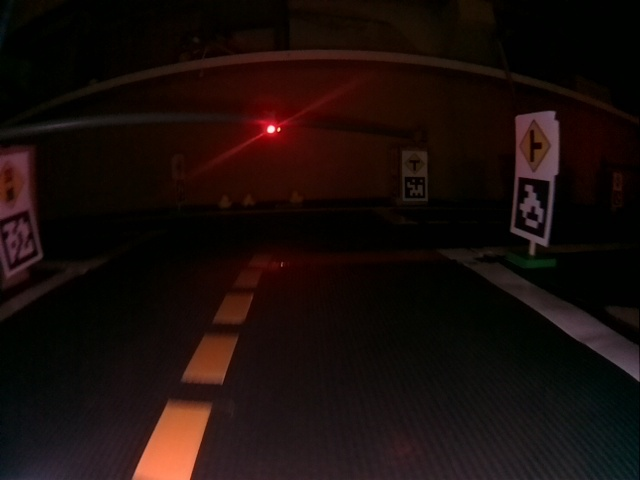Duckie: (218, 196, 231, 208), (243, 195, 254, 206), (293, 191, 303, 201)
Intersection sign: (519, 118, 552, 173), (404, 153, 425, 174)
QR code: (514, 177, 552, 239), (2, 212, 39, 269), (404, 176, 426, 199)
Signal sign: (2, 159, 26, 207)
Traffic light: (267, 124, 281, 134)
